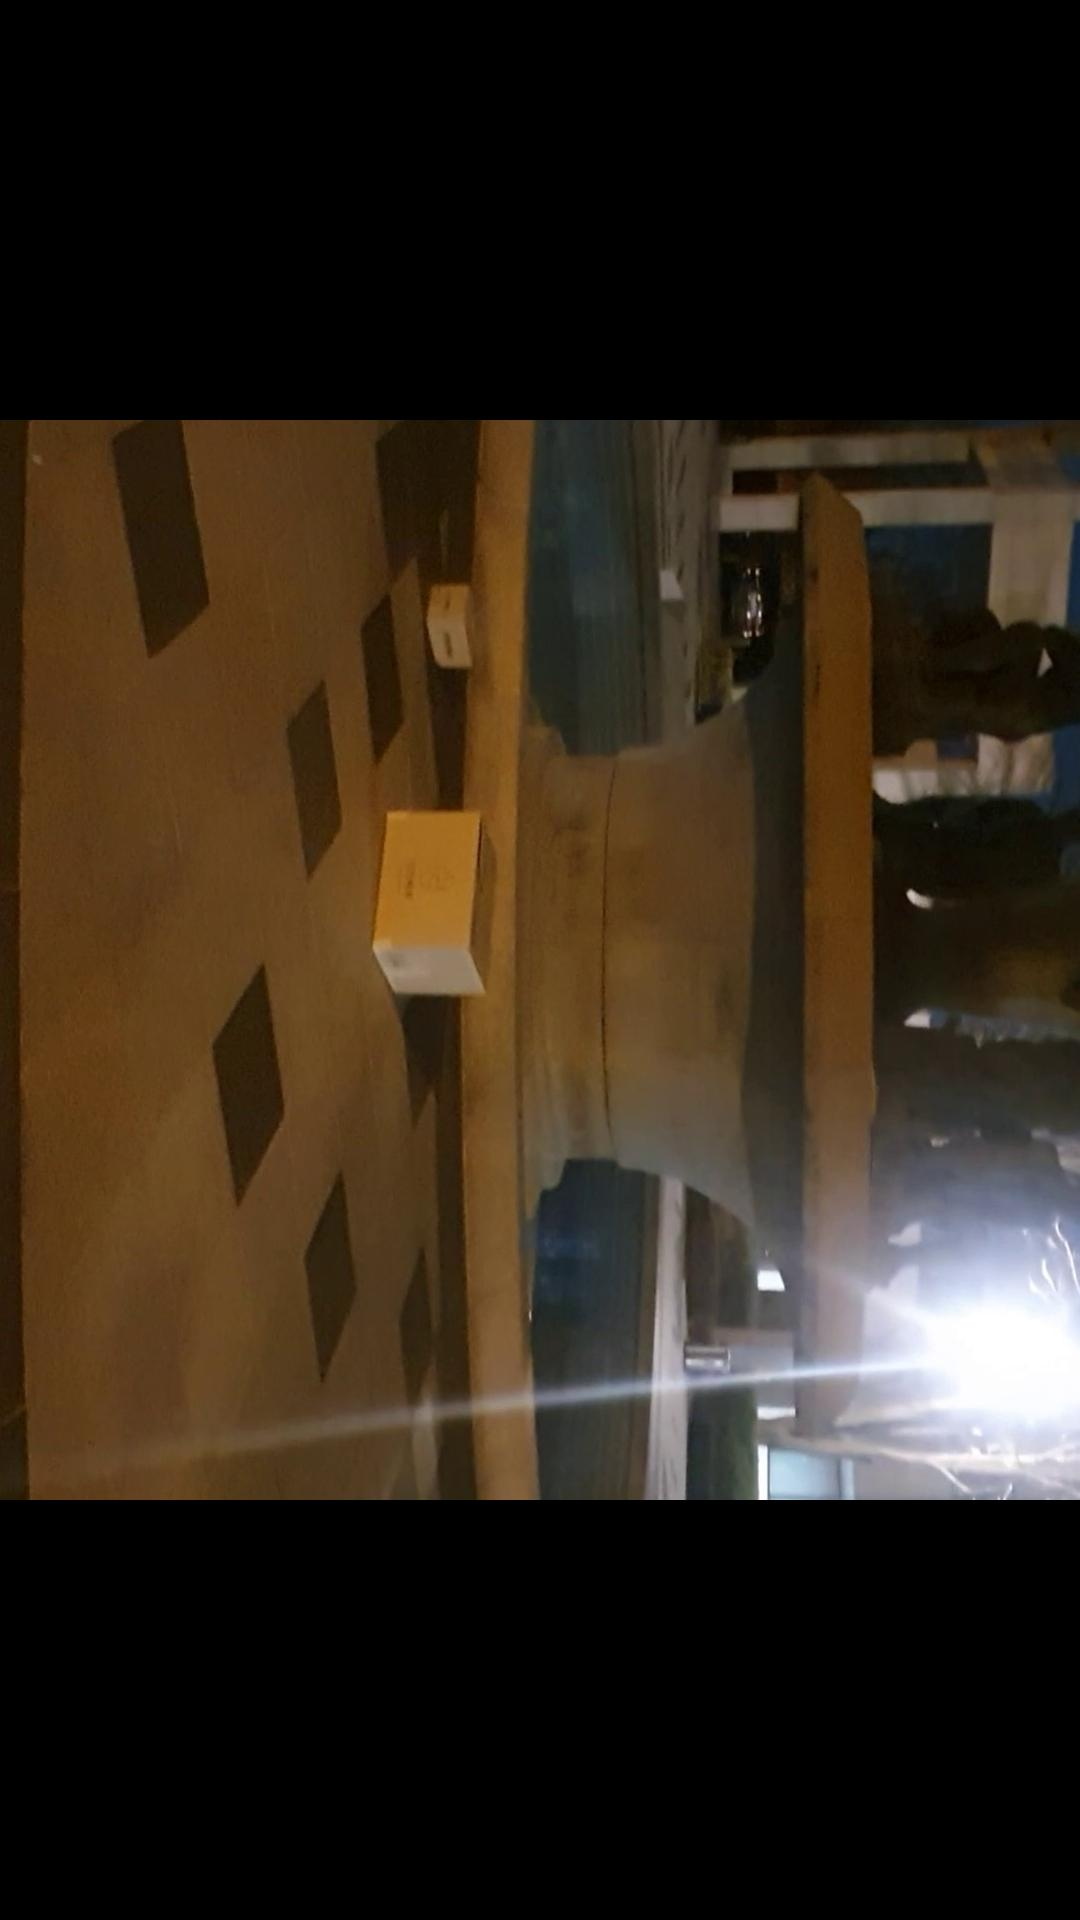Box: (363, 803, 502, 1015), (418, 578, 495, 676)
